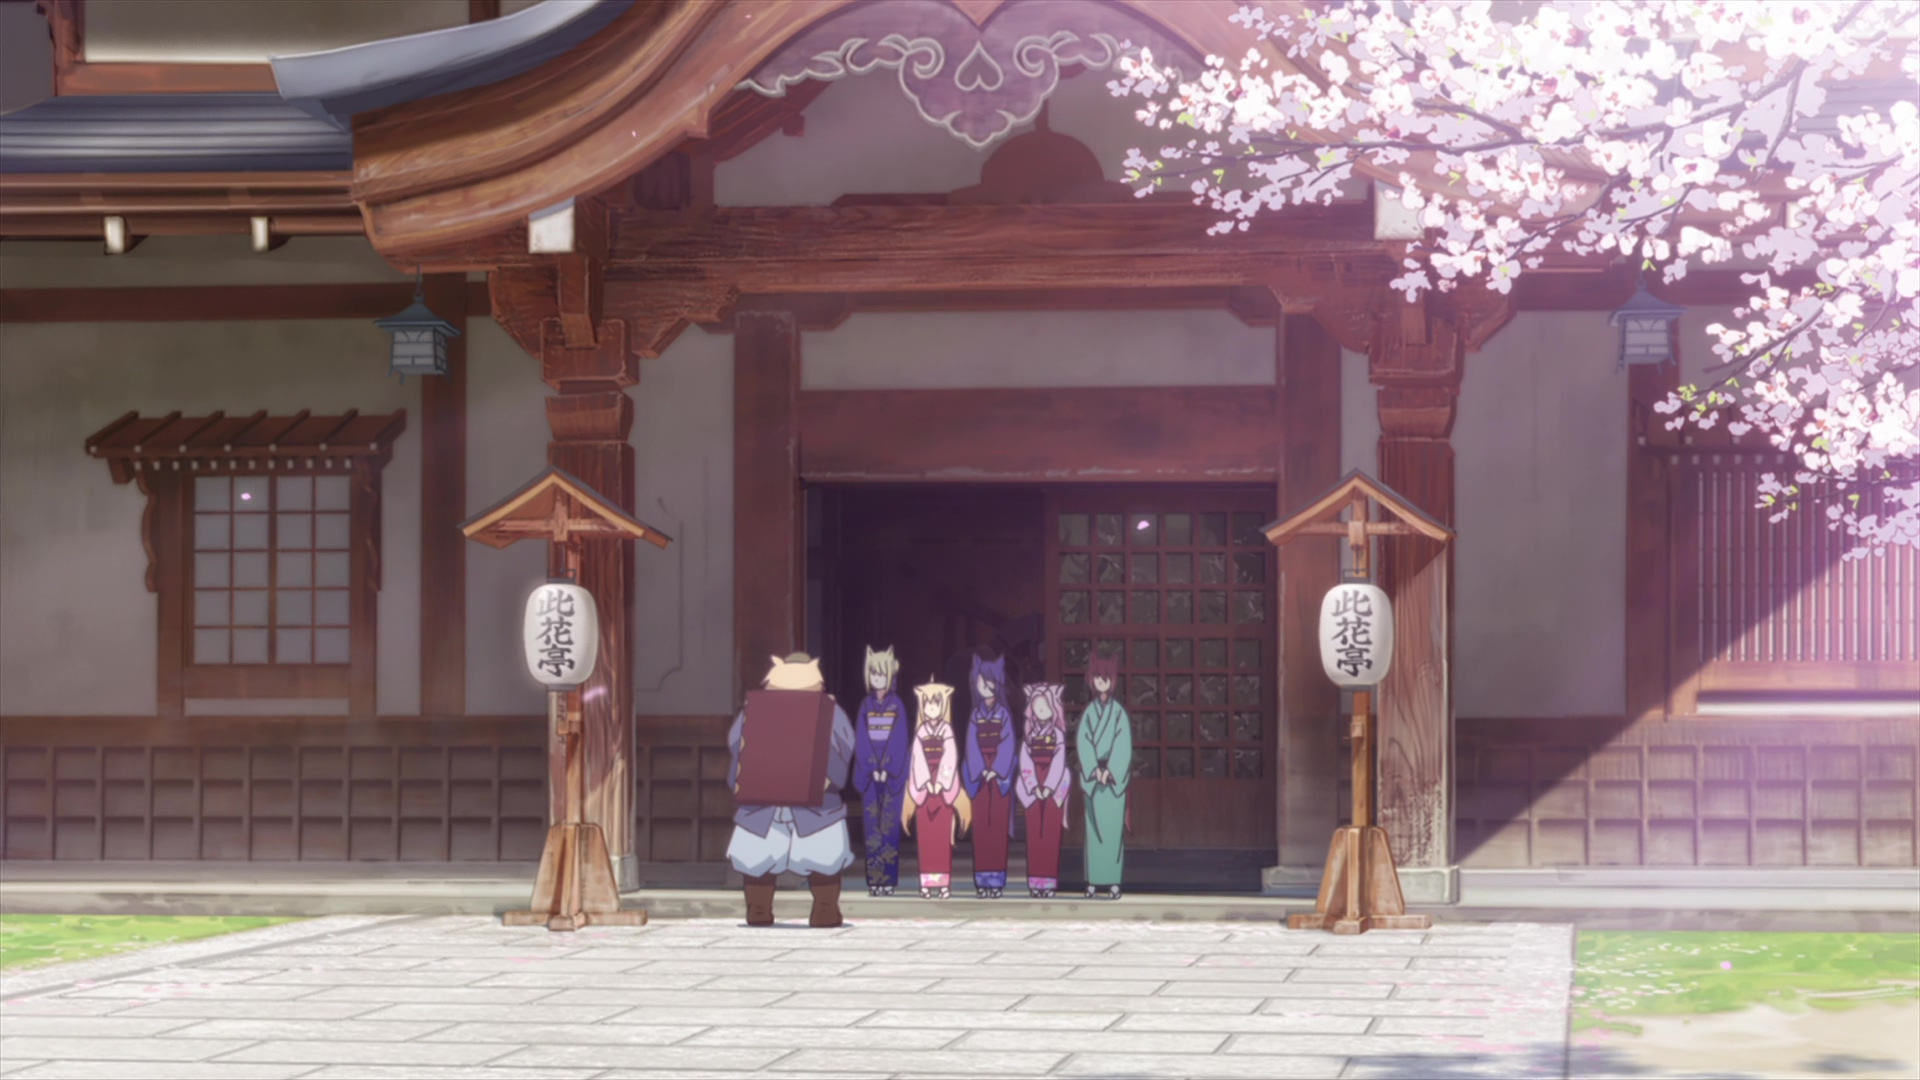枣: (1077, 655, 1134, 899)
柚: (901, 674, 971, 897)
桐: (856, 642, 906, 895)
皋: (964, 655, 1019, 898)
药店老板: (725, 653, 860, 927)
莲: (1017, 682, 1071, 898)
